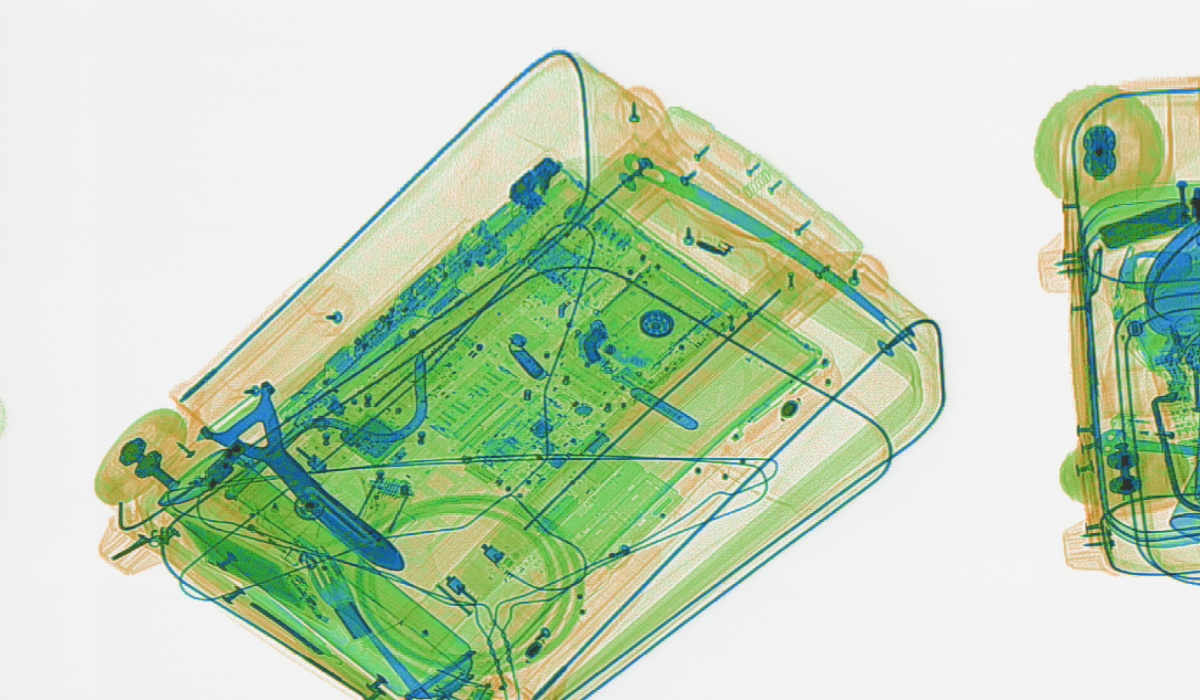lighter: (1111, 414, 1197, 445)
pressure: (155, 447, 477, 697)
